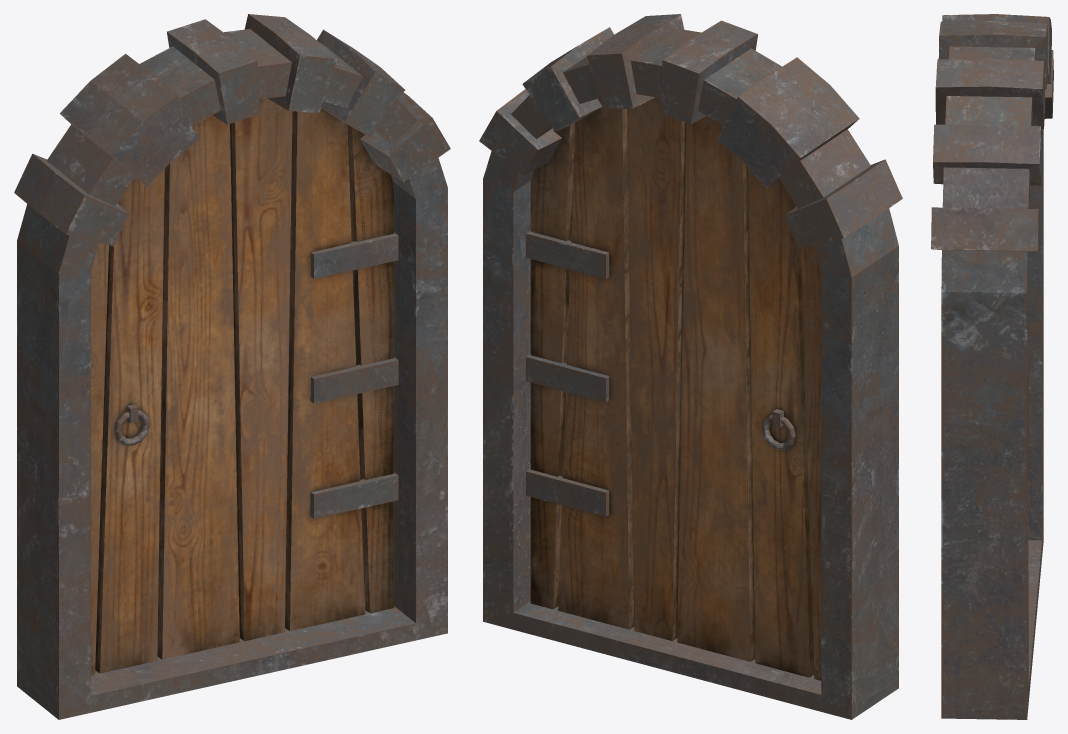
Rendered from Door_Openable.fbx.
The picture shows the model from 3 angles, left to right: view 1: azimuth 30°, elevation 25°; view 2: azimuth 150°, elevation 25°; view 3: azimuth 270°, elevation 25°; orthographic projection. The views are drawn at different scales.
Parts seen in each view (by area): view 1: Door_Small.001, Door_Small; view 2: Door_Small.001, Door_Small; view 3: Door_Small.
Boxes of the visible parts, x1,y1,x2,y2 form: Door_Small.001: (91, 98, 398, 675); Door_Small: (14, 14, 450, 719); Door_Small.001: (526, 97, 821, 680); Door_Small: (479, 14, 902, 719); Door_Small: (931, 14, 1053, 719).
Size of the model in its own units: 198 by 306 by 57.33.
